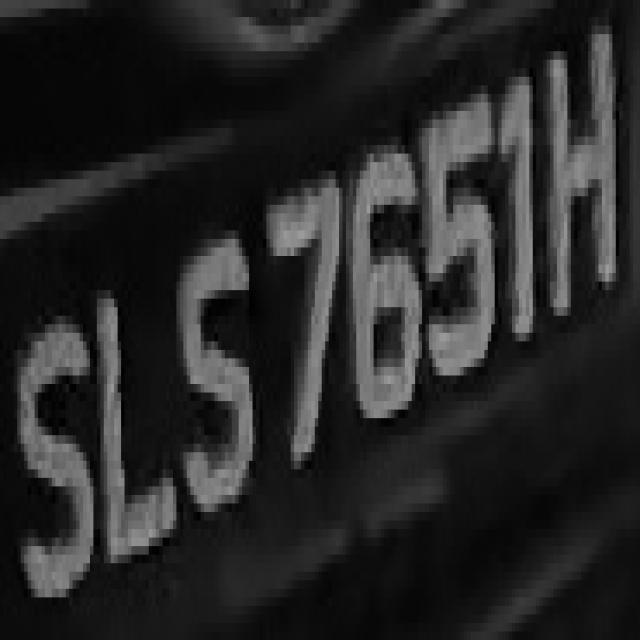1: (505, 17, 547, 418)
5: (408, 77, 505, 418)
6: (343, 120, 422, 426)
7: (263, 162, 342, 504)
H: (540, 34, 622, 333)
L: (76, 273, 183, 580)
S: (166, 239, 263, 520), (14, 290, 90, 623)
